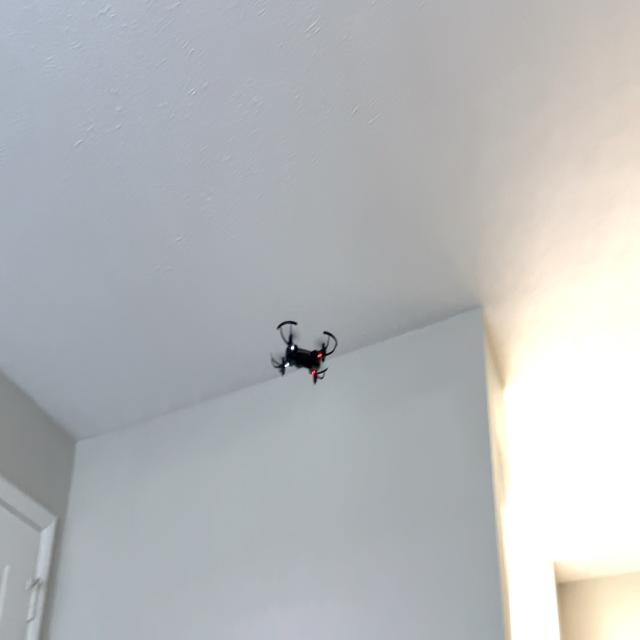drone: (264, 306, 346, 404)
